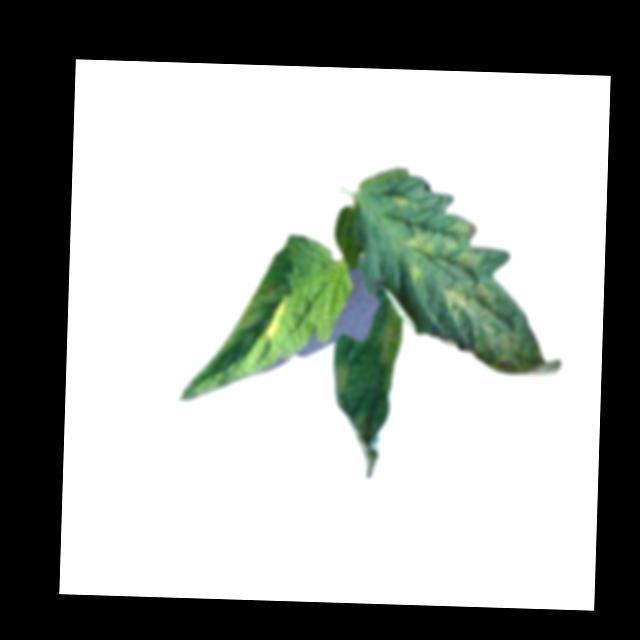Leaf_Mold: (439, 281, 563, 379), (404, 215, 488, 269), (264, 297, 289, 342), (406, 261, 428, 291), (331, 362, 350, 390), (392, 194, 412, 213)
